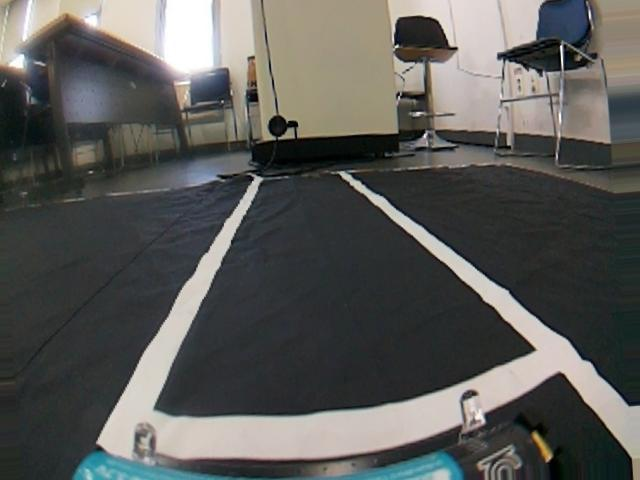straight: (4, 173, 637, 480)
